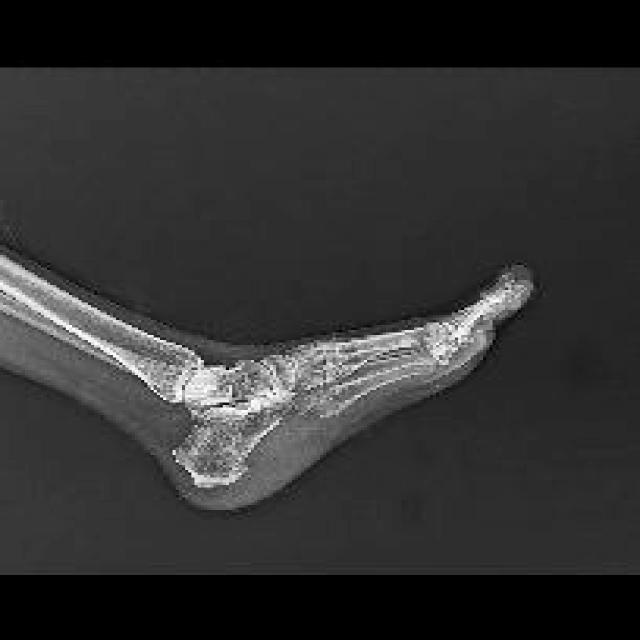normal: (3, 254, 536, 489)
